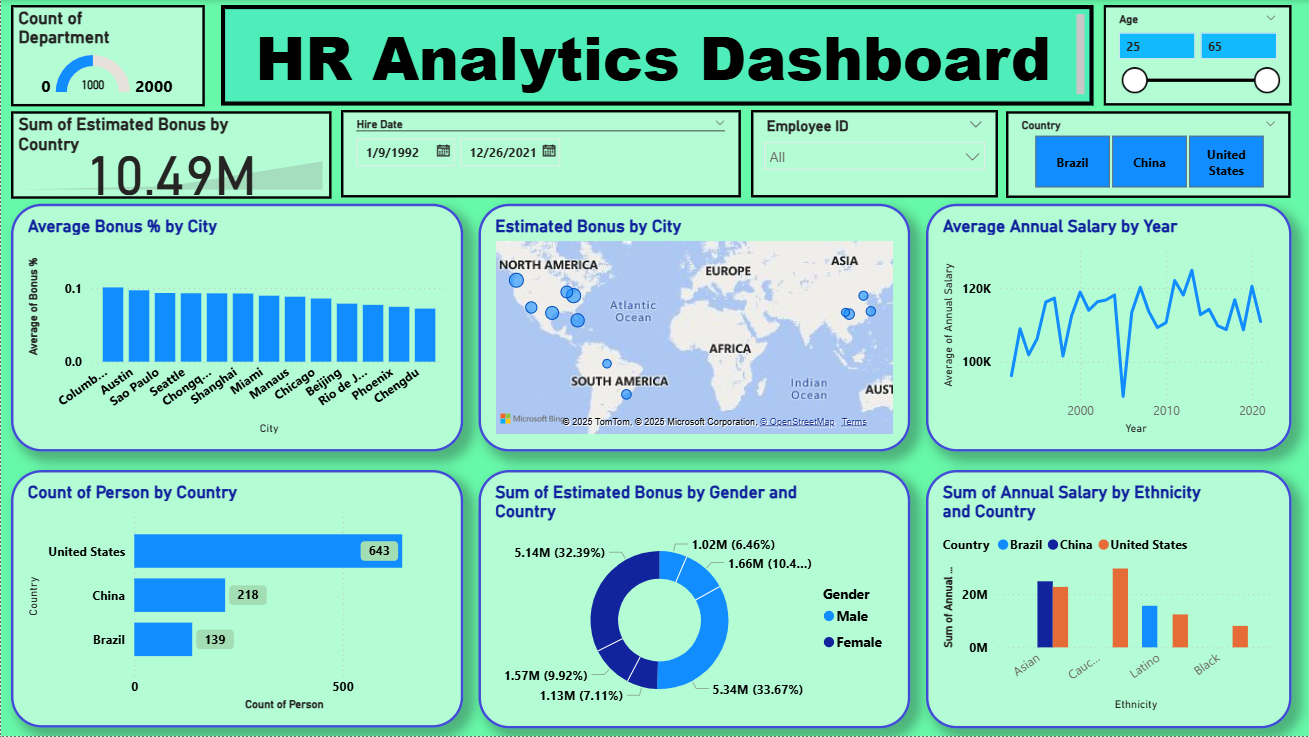

The page's visual inventory and layout, read from the dashboard file:
{"tool":"powerbi","page":{"name":"HR Analytics Dashboard","canvas":[1280,720],"ordinal":0},"visuals":[{"type":"slicer","fields":{"Values":["TBL_Employees.Hire Date"]},"box":[333,107.4,390.9,85.7],"z":1500},{"type":"clusteredBarChart","fields":{"Category":["TBL_Employees.Country"],"Y":["CountNonNull(TBL_Employees.Full Name)"]},"box":[9.7,459.7,442.8,252.1],"z":2000},{"type":"donutChart","fields":{"Category":["TBL_Employees.Gender"],"Series":["TBL_Employees.Country"],"Y":["Sum(TBL_Employees.Estimated Bonus)"]},"box":[467.5,460,422.5,252.5],"z":3000},{"type":"lineChart","title":"Average Annual Salary by Year","fields":{"Y":["Avg(TBL_Employees.Annual Salary)"],"Category":["TBL_Employees.Hire Date.Variation.Date Hierarchy.Year","TBL_Employees.Hire Date.Variation.Date Hierarchy.Quarter","TBL_Employees.Hire Date.Variation.Date Hierarchy.Month","TBL_Employees.Hire Date.Variation.Date Hierarchy.Day"]},"box":[905,198.8,357.5,242.5],"z":4000},{"type":"textbox","box":[215,5,853.8,98.8],"z":6000},{"type":"lineClusteredColumnComboChart","fields":{"Category":["TBL_Employees.Ethnicity"],"Series":["TBL_Employees.Country"],"Y":["Sum(TBL_Employees.Annual Salary)"]},"box":[905,460,357.5,252.5],"z":7000},{"type":"slicer","fields":{"Values":["TBL_Employees.Country"]},"box":[983.8,108.8,278.8,85],"z":8000},{"type":"kpi","fields":{"TrendLine":["TBL_Employees.Country"],"Indicator":["Sum(TBL_Employees.Estimated Bonus)"]},"box":[9.7,108.6,313.7,85.7],"z":9000},{"type":"slicer","fields":{"Values":["TBL_Employees.EEID"]},"box":[733.5,107.4,241.3,85.7],"z":10000},{"type":"gauge","fields":{"Y":["CountNonNull(TBL_Employees.Department)"]},"box":[9.7,4.8,189.4,98.9],"z":11000},{"type":"slicer","fields":{"Values":["TBL_Employees.Age"]},"box":[1078.8,5,183.8,98.8],"z":12000},{"type":"clusteredColumnChart","title":"Average Bonus % by City","fields":{"Category":["TBL_Employees.City"],"Y":["Avg(TBL_Employees.Bonus %)"]},"box":[9.7,199.1,442.8,242.5],"z":12500},{"type":"map","title":"Estimated Bonus by City","fields":{"Category":["TBL_Employees.City"],"Size":["Sum(TBL_Employees.Estimated Bonus)"]},"box":[467.5,198.8,422.5,242.5],"z":13000}]}

Visuals, with their boxes in screenshot pixels (x1, y1, x2, y2), scaled from the page's 1280x720 canvas onto the 1309x737 screenshot:
slicer - TBL_Employees.Hire Date: x1=341, y1=110, x2=740, y2=198
clusteredBarChart - TBL_Employees.Country x CountNonNull(TBL_Employees.Full Name): x1=10, y1=471, x2=463, y2=729
donutChart - TBL_Employees.Gender x TBL_Employees.Country: x1=478, y1=471, x2=910, y2=729
"Average Annual Salary by Year" lineChart: x1=926, y1=203, x2=1291, y2=452
textbox: x1=220, y1=5, x2=1093, y2=106
lineClusteredColumnComboChart - TBL_Employees.Ethnicity x TBL_Employees.Country: x1=926, y1=471, x2=1291, y2=729
slicer - TBL_Employees.Country: x1=1006, y1=111, x2=1291, y2=198
kpi - TBL_Employees.Country x Sum(TBL_Employees.Estimated Bonus): x1=10, y1=111, x2=331, y2=199
slicer - TBL_Employees.EEID: x1=750, y1=110, x2=997, y2=198
gauge - CountNonNull(TBL_Employees.Department): x1=10, y1=5, x2=204, y2=106
slicer - TBL_Employees.Age: x1=1103, y1=5, x2=1291, y2=106
"Average Bonus % by City" clusteredColumnChart: x1=10, y1=204, x2=463, y2=452
"Estimated Bonus by City" map: x1=478, y1=203, x2=910, y2=452
